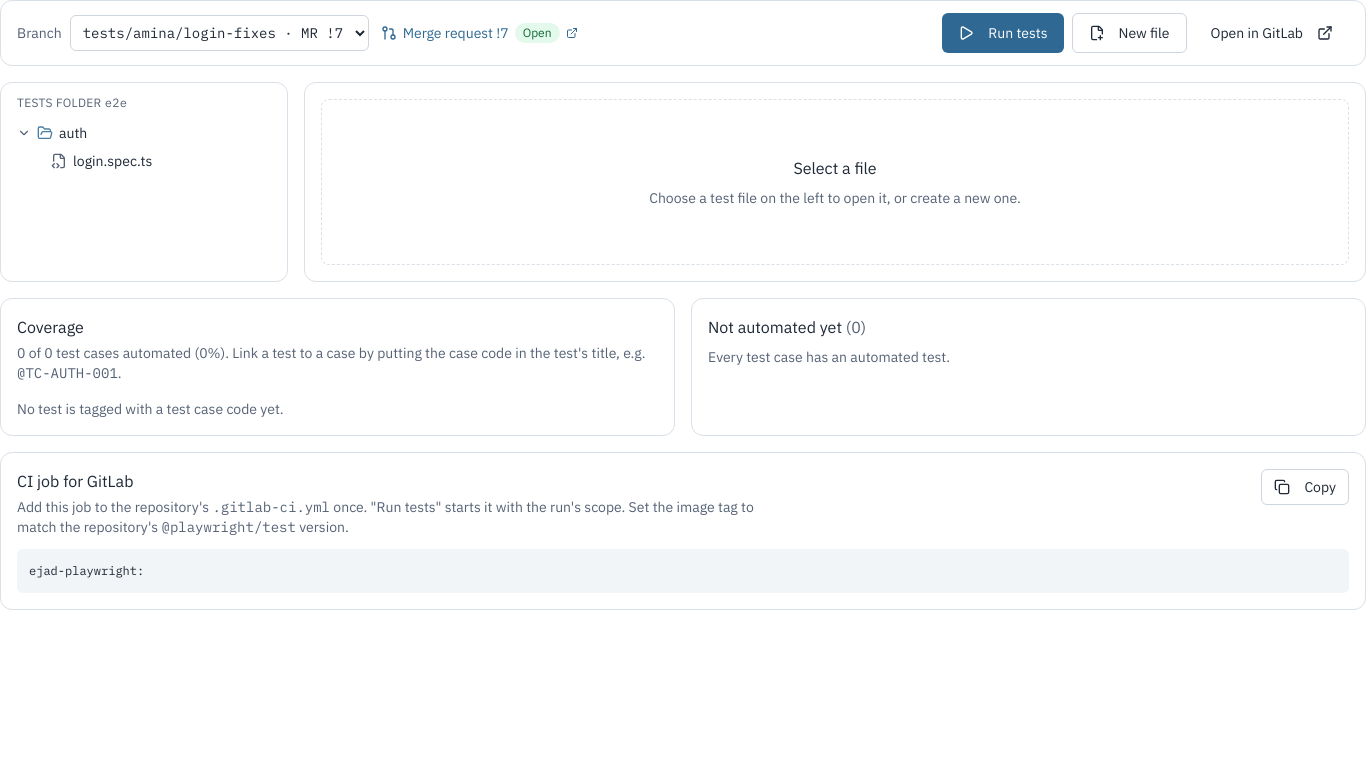
AutomationView › re-expands the top-level folders when returning to a previously visited (cached) branch
expect the button "login.spec.ts" is shown: met, box [13,147,275,175]
Note: Switch to main (branch B), whose different top-level folder ("smoke") expands by default too.
Select "main (default)" in the dropdown labelled "Branch" at (219, 33), box [70,15,369,51]
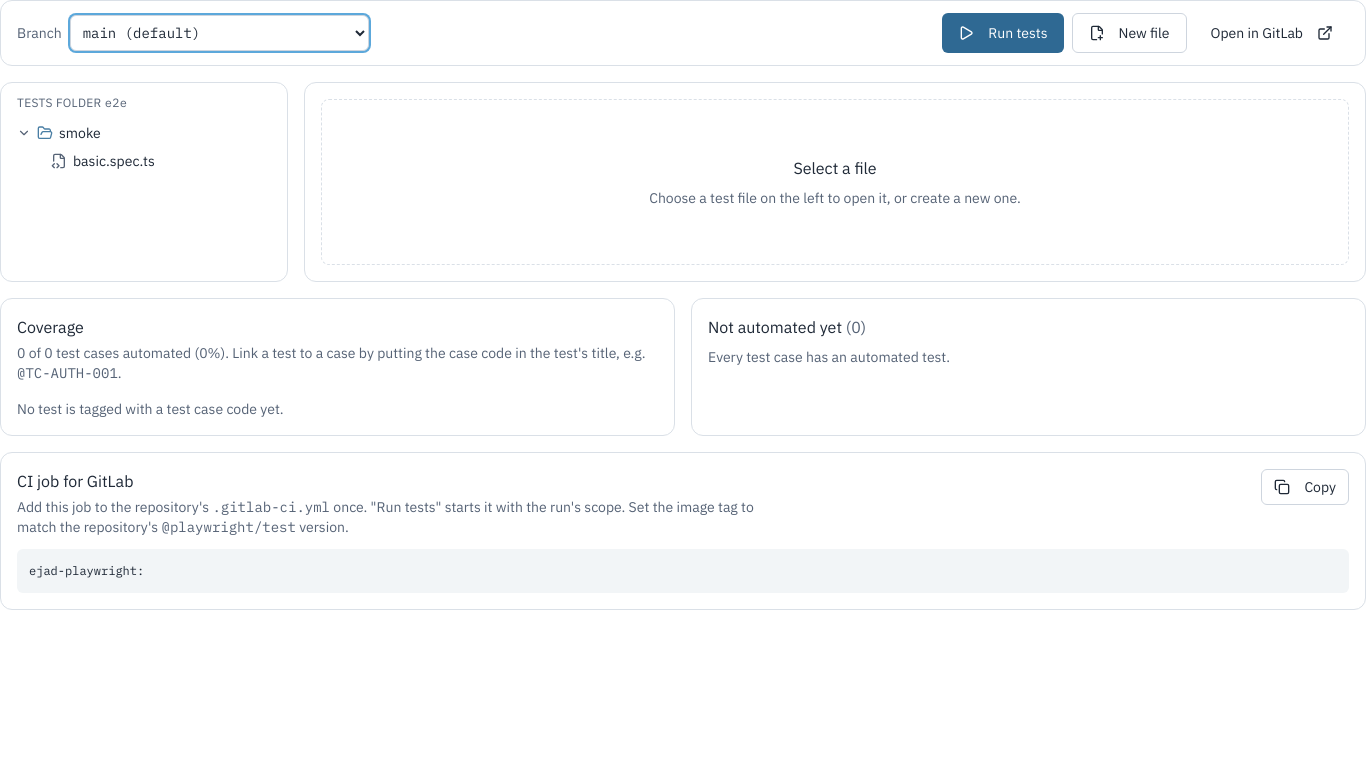
expect the button "basic.spec.ts" is shown: met, box [13,147,275,175]
Select "tests/amina/login-fixes · MR !7" in the dropdown labelled "Branch" at (219, 33), box [70,15,369,51]
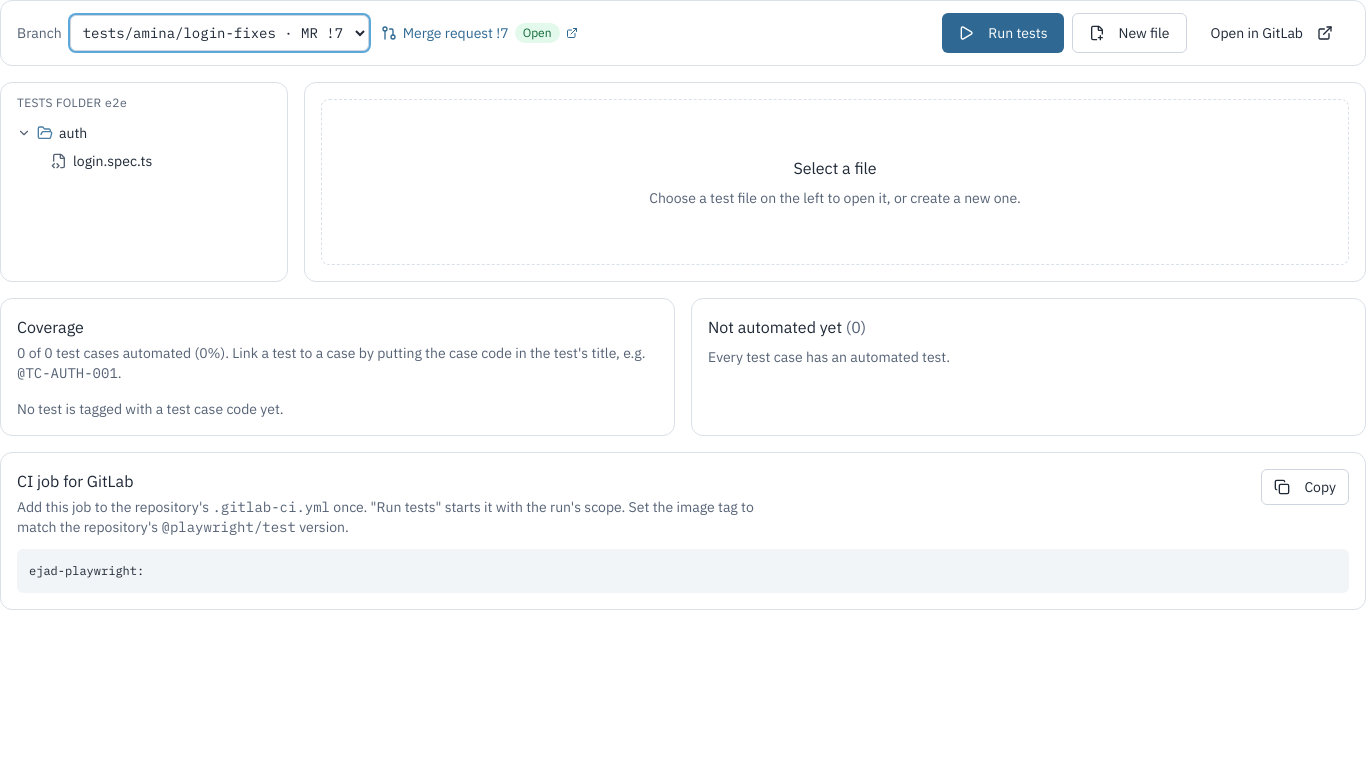
expect the button "login.spec.ts" is shown: met, box [13,147,275,175]
